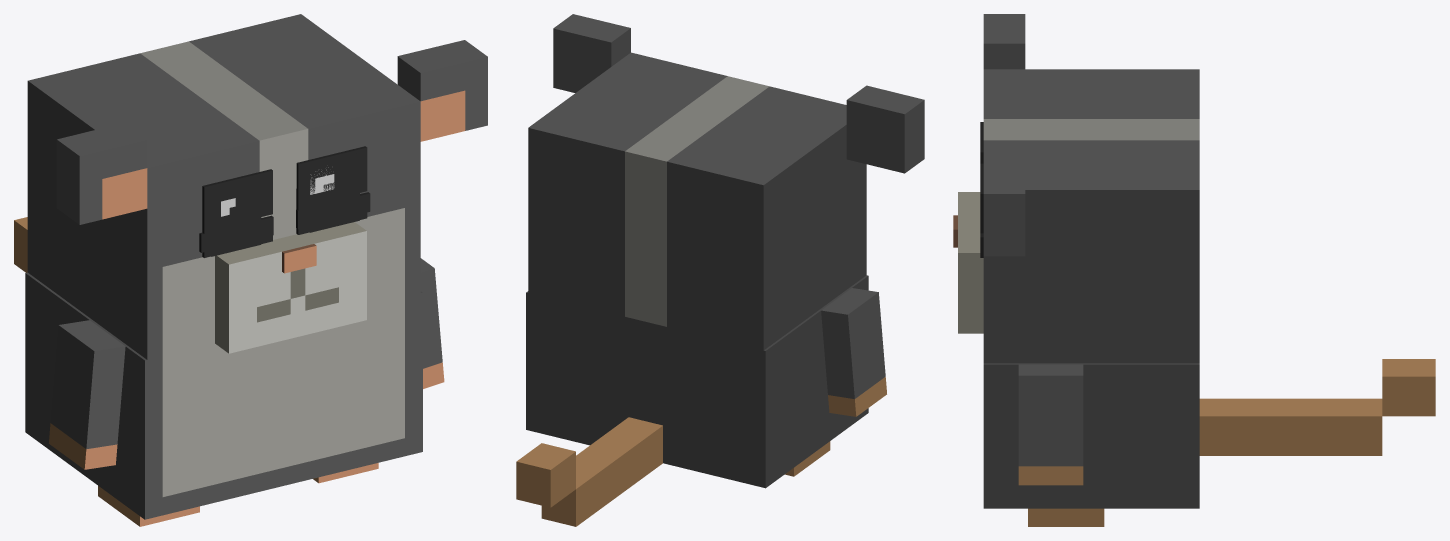
3 renders of one model, left to right at view 1: azimuth 30°, elevation 25°; view 2: azimuth 150°, elevation 25°; view 3: azimuth 270°, elevation 25°, orthographic. The views are drawn at different scales.
Parts seen in each view (by area): view 1: Ch_183_Head, Ch_183, Ch_183_Arm_L, Ch_183_Eye_01, Ch_183_Eye_03_L, Ch_183_Arm_R, Ch_183_Eye_03_R, Ch_183_Eye_02, Ch_183_Leg_L, Ch_183_Tail; view 2: Ch_183_Head, Ch_183, Ch_183_Tail, Ch_183_Arm_L; view 3: Ch_183_Head, Ch_183, Ch_183_Tail, Ch_183_Arm_R, Ch_183_Leg_R.
Part boxes in pixels (box(x1,y1,x2,y2)): Ch_183_Head: box(27, 14, 487, 359); Ch_183: box(25, 272, 422, 519); Ch_183_Arm_L: box(49, 320, 125, 469); Ch_183_Eye_01: box(211, 152, 359, 256); Ch_183_Eye_03_L: box(202, 169, 272, 257); Ch_183_Arm_R: box(420, 258, 444, 388); Ch_183_Eye_03_R: box(296, 146, 367, 234); Ch_183_Eye_02: box(199, 192, 370, 252); Ch_183_Leg_L: box(98, 486, 199, 526); Ch_183_Tail: box(14, 217, 27, 272); Ch_183_Head: box(528, 14, 924, 350); Ch_183: box(526, 275, 868, 488); Ch_183_Tail: box(516, 417, 662, 526); Ch_183_Arm_L: box(821, 288, 886, 416); Ch_183_Head: box(953, 14, 1199, 363); Ch_183: box(983, 363, 1199, 508); Ch_183_Tail: box(1199, 359, 1435, 455); Ch_183_Arm_R: box(1018, 364, 1083, 485); Ch_183_Leg_R: box(1028, 508, 1104, 526).
Size of the model in its own units: 9.89 by 9.49 by 11.19.
